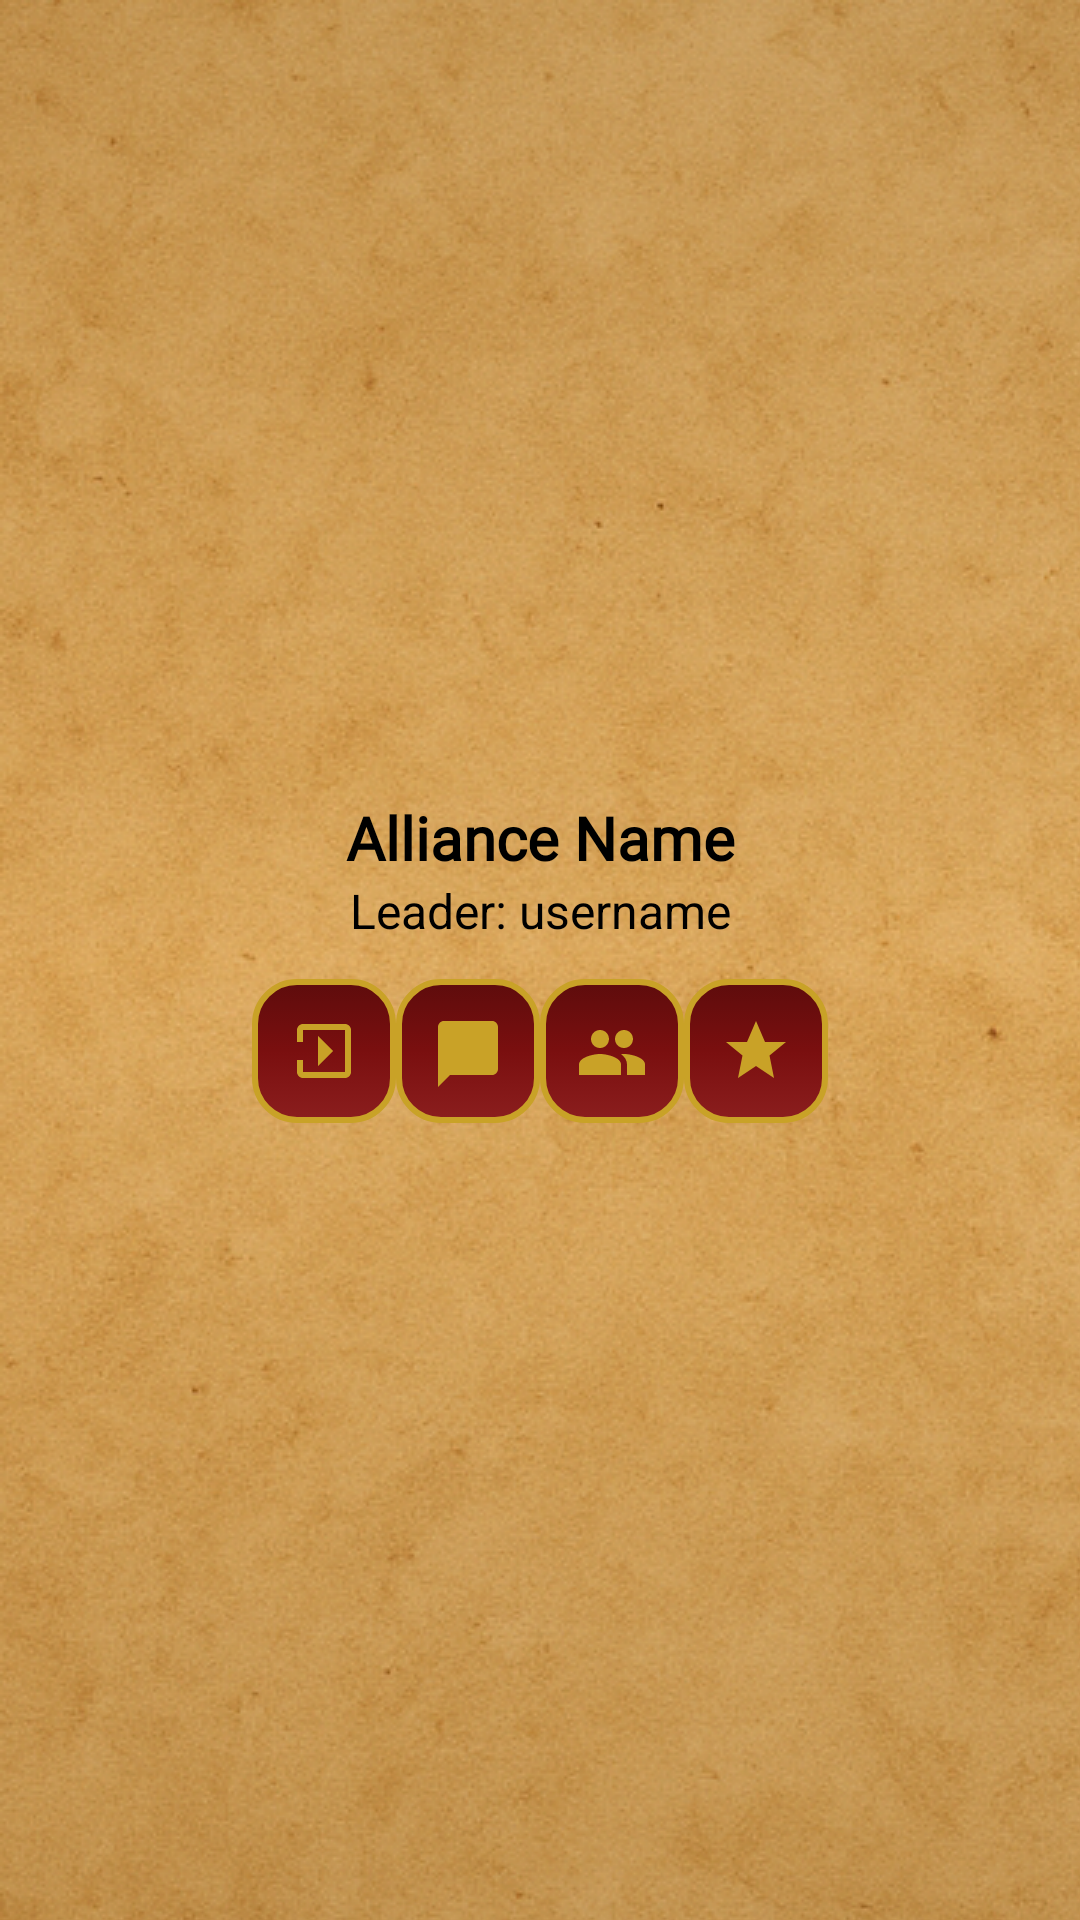

Named icons in this screenshot (1080px×1920px) and their centers, (x,y):
chat: (468,1051)
leave: (324,1051)
members: (612,1051)
mission: (756,1051)
